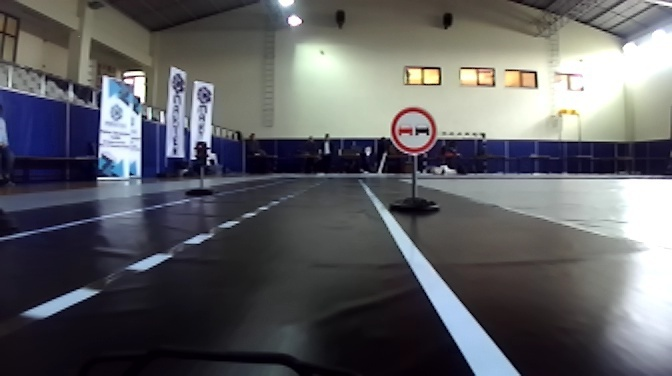sollama_yasak: (390, 107, 435, 153)
